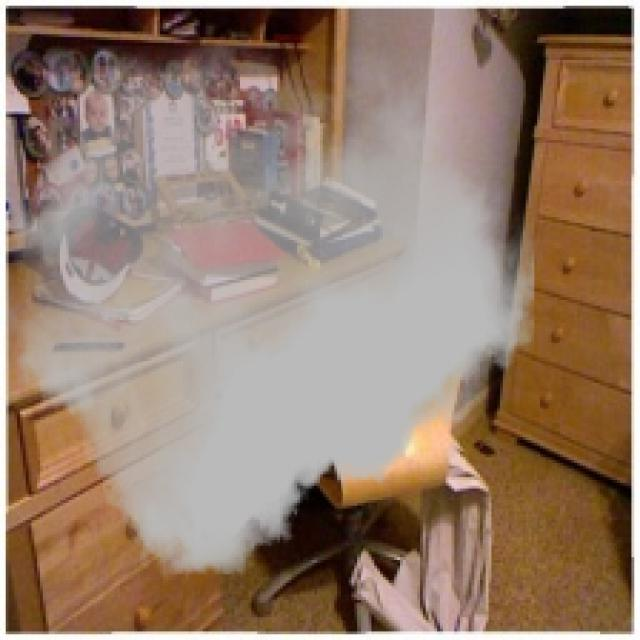smoke: (9, 46, 534, 574)
